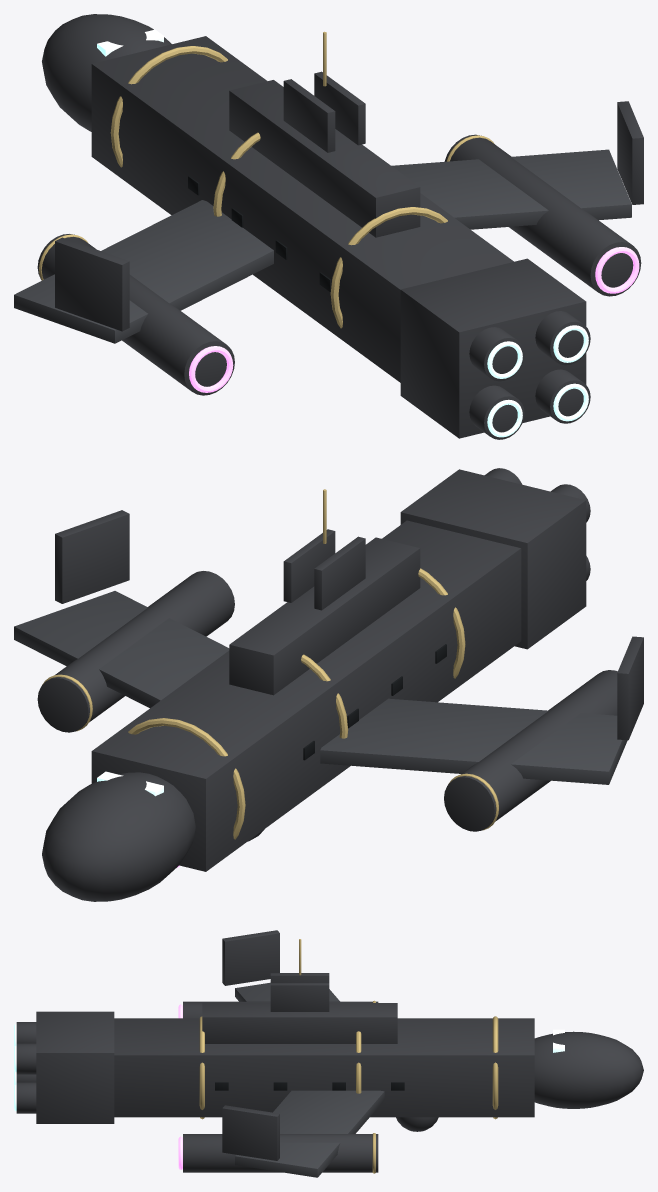
The model's file is sanctuary2.glb.
3 renders of one model, top to bottom at view 1: azimuth 30°, elevation 25°; view 2: azimuth 150°, elevation 25°; view 3: azimuth 270°, elevation 25°, orthographic. The views are drawn at different scales.
Visible parts, largest first — view 1: SM_San_Hull_Main, SM_San_Tail_Block, SM_San_Wing_L, SM_San_Spine, SM_San_Wing_R, SM_San_Pod_R, SM_San_Nose, SM_San_Pod_L, SM_San_Winglet_L, SM_San_Spire_L, SM_San_Winglet_R, SM_San_Spire_R (+9 smaller); view 2: SM_San_Hull_Main, SM_San_Wing_L, SM_San_Tail_Block, SM_San_Nose, SM_San_Spine, SM_San_Wing_R, SM_San_Pod_R, SM_San_Pod_L, SM_San_Winglet_R, SM_San_Spire_L, SM_San_Winglet_L, SM_San_Spire_R (+3 smaller); view 3: SM_San_Hull_Main, SM_San_Tail_Block, SM_San_Spine, SM_San_Nose, SM_San_Wing_R, SM_San_Pod_R, SM_San_Winglet_R, SM_San_Winglet_L, SM_San_Spire_R, SM_San_Wing_L, SM_San_Engine_RD, SM_San_Engine_RU (+6 smaller).
Boxes of the visible parts, x1,y1,x2,y2 form: SM_San_Hull_Main: [91, 36, 513, 382]; SM_San_Tail_Block: [400, 258, 586, 438]; SM_San_Wing_L: [14, 200, 273, 343]; SM_San_Spine: [229, 80, 420, 237]; SM_San_Wing_R: [391, 149, 631, 229]; SM_San_Pod_R: [444, 134, 641, 296]; SM_San_Nose: [42, 14, 171, 131]; SM_San_Pod_L: [37, 234, 234, 395]; SM_San_Winglet_L: [55, 237, 129, 331]; SM_San_Spire_L: [283, 79, 335, 152]; SM_San_Winglet_R: [617, 101, 643, 204]; SM_San_Spire_R: [314, 71, 365, 145]; SM_San_Hull_Main: [91, 520, 521, 871]; SM_San_Wing_L: [320, 698, 627, 784]; SM_San_Tail_Block: [400, 469, 586, 649]; SM_San_Nose: [42, 772, 195, 901]; SM_San_Spine: [229, 537, 420, 695]; SM_San_Wing_R: [14, 591, 229, 707]; SM_San_Pod_R: [37, 571, 234, 732]; SM_San_Pod_L: [444, 670, 617, 831]; SM_San_Winglet_R: [55, 510, 129, 603]; SM_San_Spire_L: [314, 536, 365, 610]; SM_San_Winglet_L: [617, 636, 643, 740]; SM_San_Spire_R: [283, 529, 335, 602]; SM_San_Hull_Main: [114, 1018, 534, 1117]; SM_San_Tail_Block: [36, 1011, 114, 1123]; SM_San_Spine: [202, 1003, 397, 1043]; SM_San_Nose: [534, 1031, 643, 1108]; SM_San_Wing_R: [235, 1090, 384, 1177]; SM_San_Pod_R: [183, 1134, 378, 1172]; SM_San_Winglet_R: [222, 1105, 279, 1160]; SM_San_Winglet_L: [222, 930, 279, 985]; SM_San_Spire_R: [270, 983, 329, 1011]; SM_San_Wing_L: [235, 982, 339, 1001]; SM_San_Engine_RD: [16, 1082, 36, 1113]; SM_San_Engine_RU: [16, 1043, 36, 1074].
Bounding box in the file's own units: 46.87 × 21.5 × 64.48.
